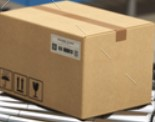stock: (1, 1, 155, 120)
